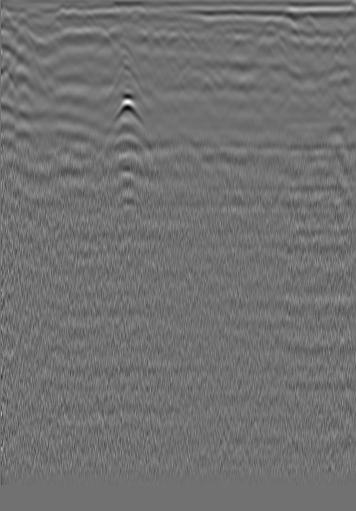가스: (104, 173, 140, 205)
상수: (20, 43, 41, 63)
오수: (292, 38, 312, 58)
우수: (157, 50, 177, 70)
